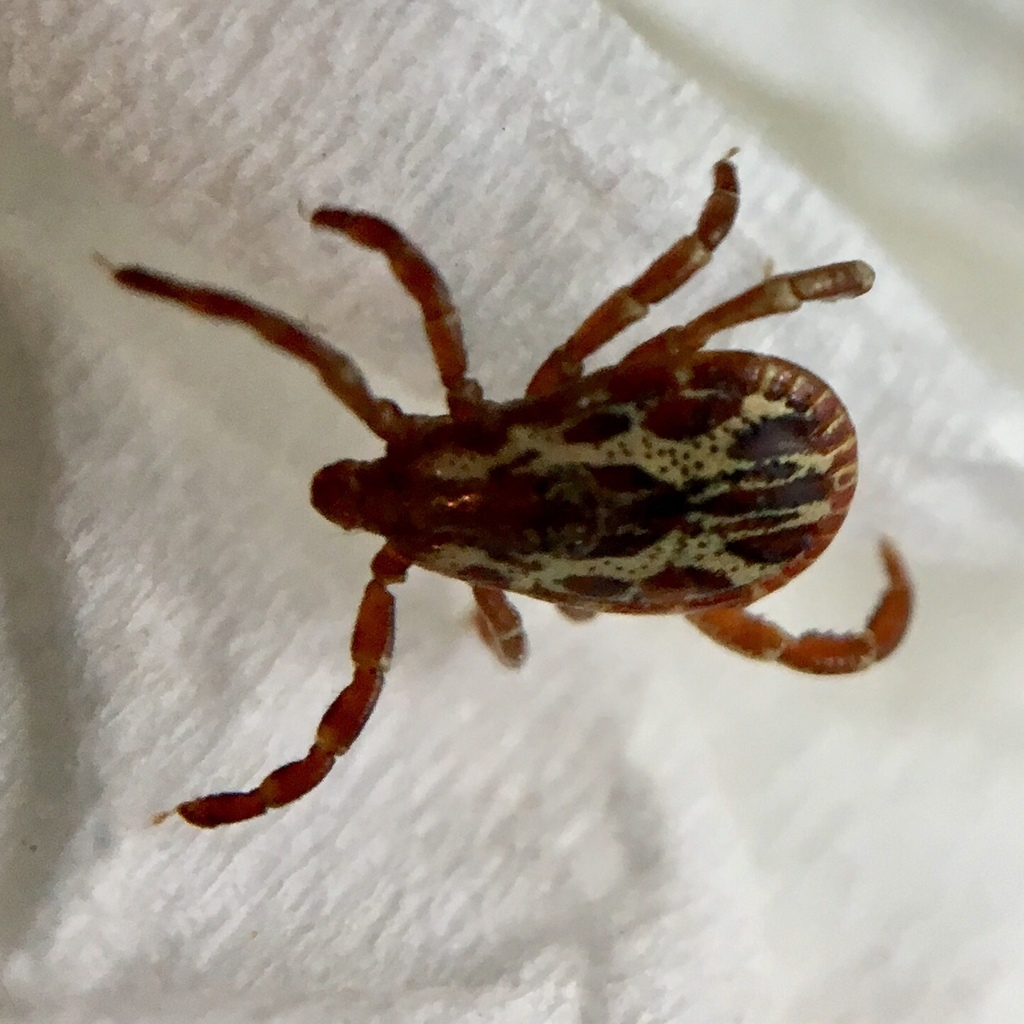garrapata: (95, 149, 924, 842)
